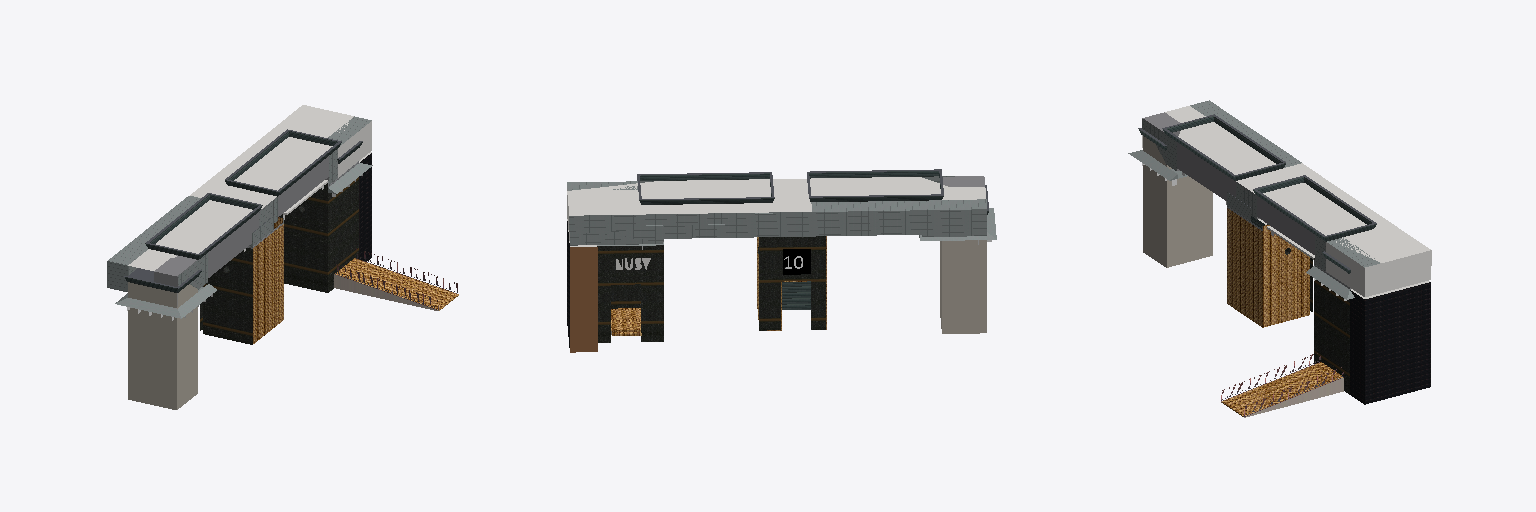
3 views of the same model, side by side, from view 1: azimuth 30°, elevation 25°; view 2: azimuth 150°, elevation 25°; view 3: azimuth 270°, elevation 25° (orthographic).
Parts seen in each view (by area): view 1: Mesh8 Group4 Group3 Group1 Model, Mesh18 Component_4_1 Group1 Model, Mesh1 Group5 Group4 Group3 Group1 Model, Mesh10 Component_2_1 Group3 Group1 Model, Mesh11 Component_2_2 Group3 Group1 Model, Mesh15 Component_3_2 Group3 Group1 Model, Mesh12 Component_1_1 Group3 Group1 Model; view 2: Mesh8 Group4 Group3 Group1 Model, Mesh1 Group5 Group4 Group3 Group1 Model, Mesh17 Group3 Group1 Model, Mesh10 Component_2_1 Group3 Group1 Model, Mesh11 Component_2_2 Group3 Group1 Model, Mesh18 Component_4_1 Group1 Model, Mesh15 Component_3_2 Group3 Group1 Model; view 3: Mesh8 Group4 Group3 Group1 Model, Mesh18 Component_4_1 Group1 Model, Mesh10 Component_2_1 Group3 Group1 Model, Mesh11 Component_2_2 Group3 Group1 Model, Mesh1 Group5 Group4 Group3 Group1 Model, Mesh15 Component_3_2 Group3 Group1 Model.
Boxes of the visible parts, box(x1,y1,x2,y2) form: Mesh8 Group4 Group3 Group1 Model: box(128, 105, 371, 409); Mesh18 Component_4_1 Group1 Model: box(334, 248, 458, 310); Mesh1 Group5 Group4 Group3 Group1 Model: box(107, 196, 200, 291); Mesh10 Component_2_1 Group3 Group1 Model: box(225, 129, 341, 196); Mesh11 Component_2_2 Group3 Group1 Model: box(145, 193, 262, 259); Mesh15 Component_3_2 Group3 Group1 Model: box(115, 284, 216, 318); Mesh12 Component_1_1 Group3 Group1 Model: box(124, 268, 201, 292); Mesh8 Group4 Group3 Group1 Model: box(567, 176, 986, 352); Mesh1 Group5 Group4 Group3 Group1 Model: box(626, 199, 986, 239); Mesh17 Group3 Group1 Model: box(759, 236, 825, 330); Mesh10 Component_2_1 Group3 Group1 Model: box(637, 172, 774, 204); Mesh11 Component_2_2 Group3 Group1 Model: box(807, 169, 943, 201); Mesh18 Component_4_1 Group1 Model: box(611, 308, 641, 335); Mesh15 Component_3_2 Group3 Group1 Model: box(919, 208, 996, 240); Mesh8 Group4 Group3 Group1 Model: box(1142, 106, 1431, 404); Mesh18 Component_4_1 Group1 Model: box(1221, 353, 1343, 417); Mesh10 Component_2_1 Group3 Group1 Model: box(1253, 175, 1376, 241); Mesh11 Component_2_2 Group3 Group1 Model: box(1162, 114, 1285, 180); Mesh1 Group5 Group4 Group3 Group1 Model: box(1190, 100, 1301, 167); Mesh15 Component_3_2 Group3 Group1 Model: box(1128, 150, 1187, 180).
Size of the model in its own units: 958 by 354 by 680.
20 materials, 14 textured.